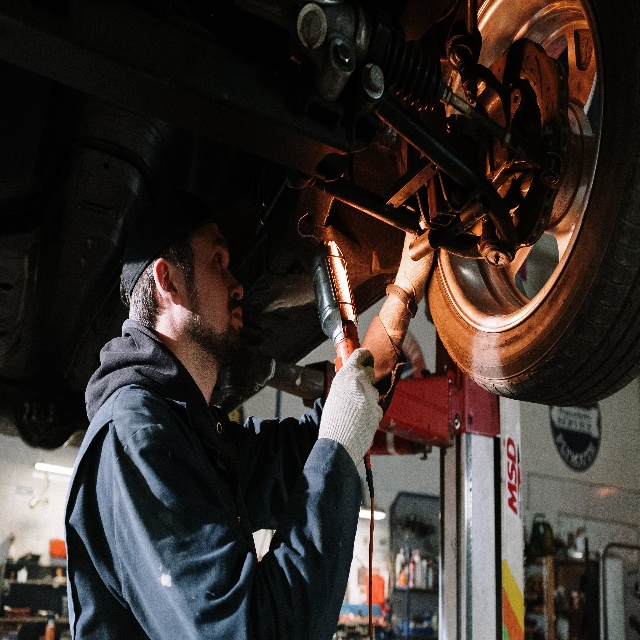Guantes: (317, 348, 383, 467), (394, 229, 435, 305)
